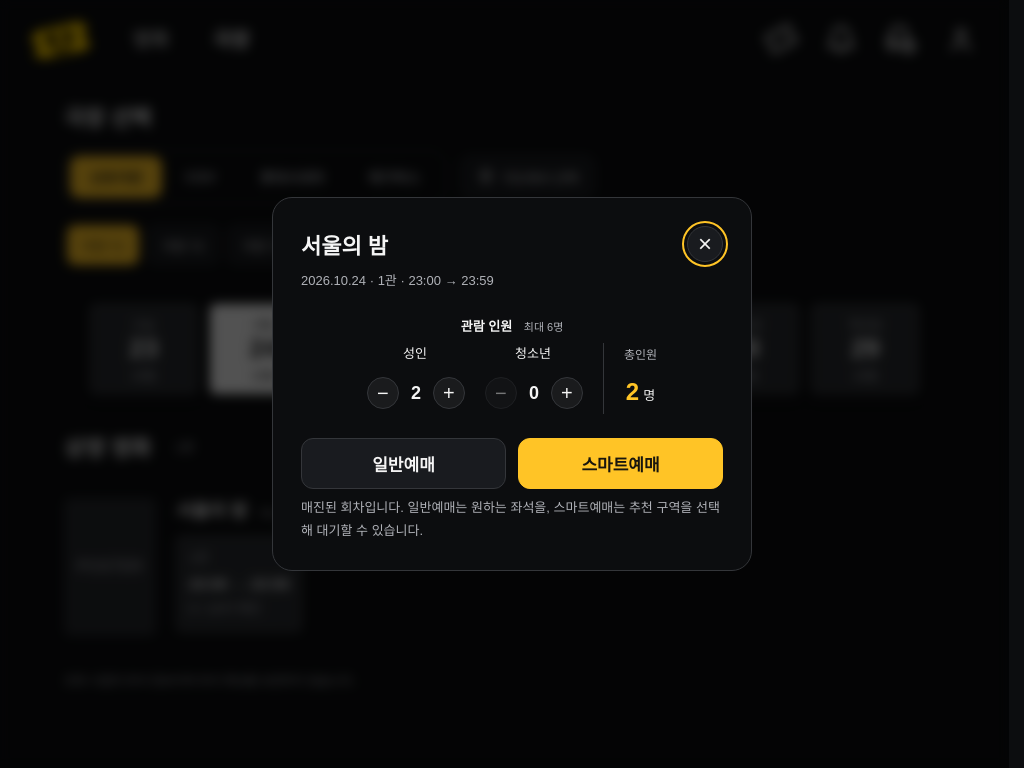
Test: sold-out theater smart creates candidates for its selected show without requiring a free seat
Click the button "스마트예매": (620,464) [518, 438, 723, 490]
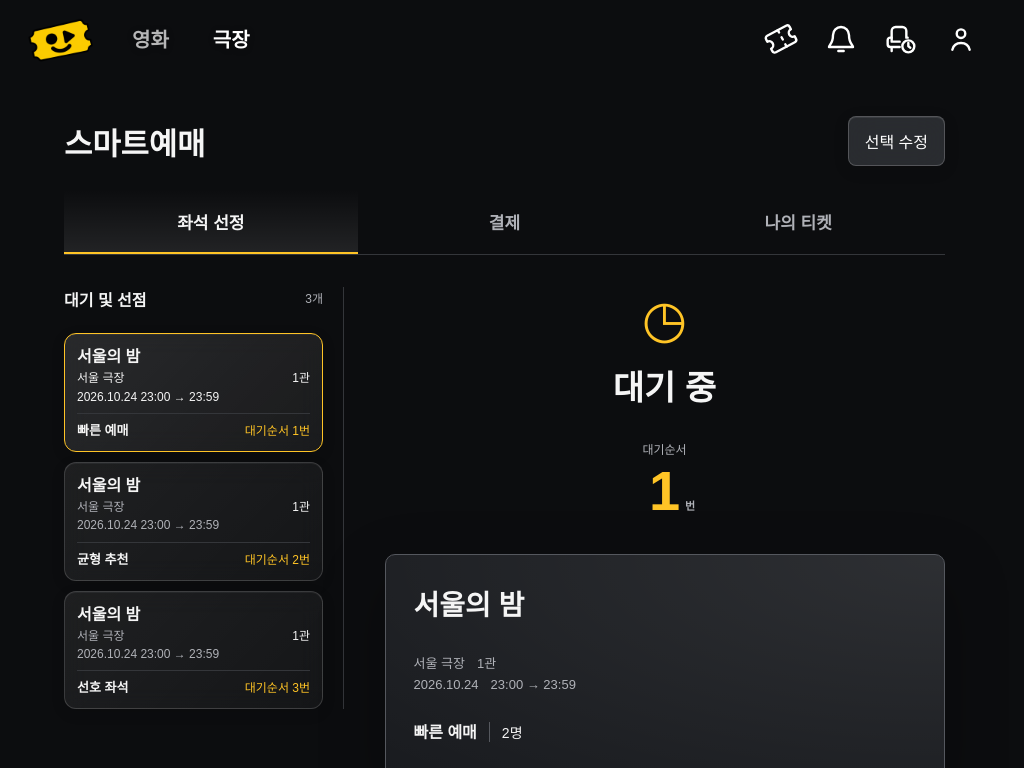
Expected: the element named "좌석 선정 후보" is shown, [64, 287, 344, 709]
